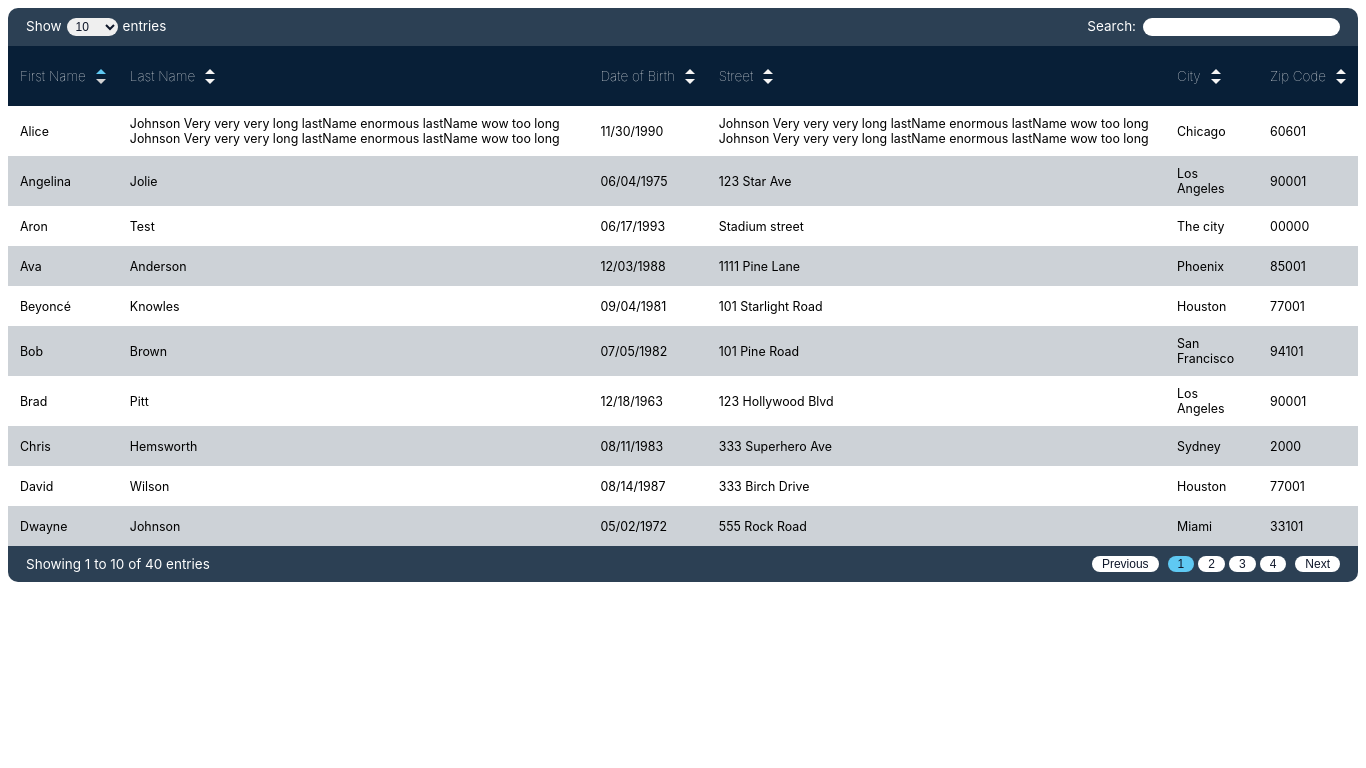
Scenario: TableInfo interactions tests suite › TableInfo displays accurate information when filtering applied using the keyword 'John'
The image size is (1366, 768).
Step 1. Type "John" into the field with test id "table-filter-input" → point(1242, 27), box [1143,18,1340,36]
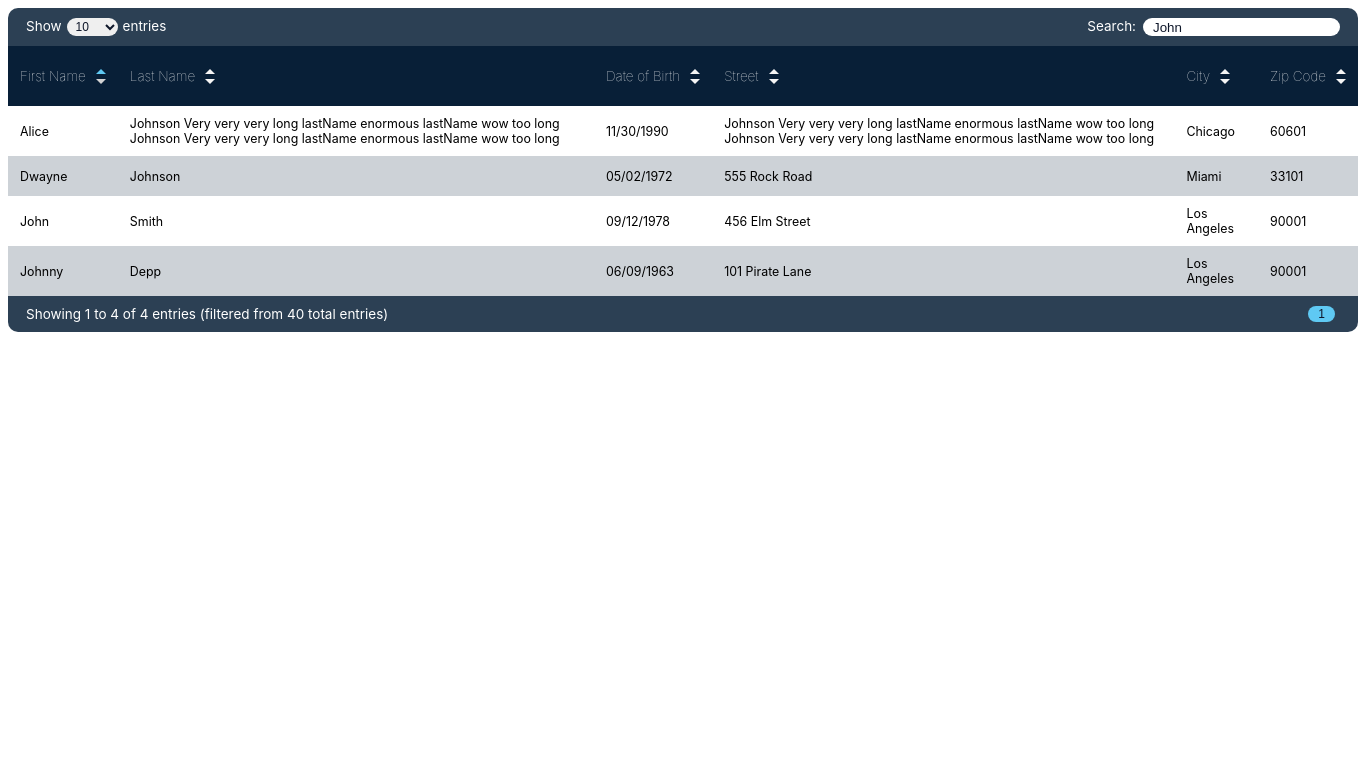
expect the text with test id "table-info" reads "Showing 1 to 4 of 4 entries (filtered from 40 total entries)": met, box [26,306,388,322]
